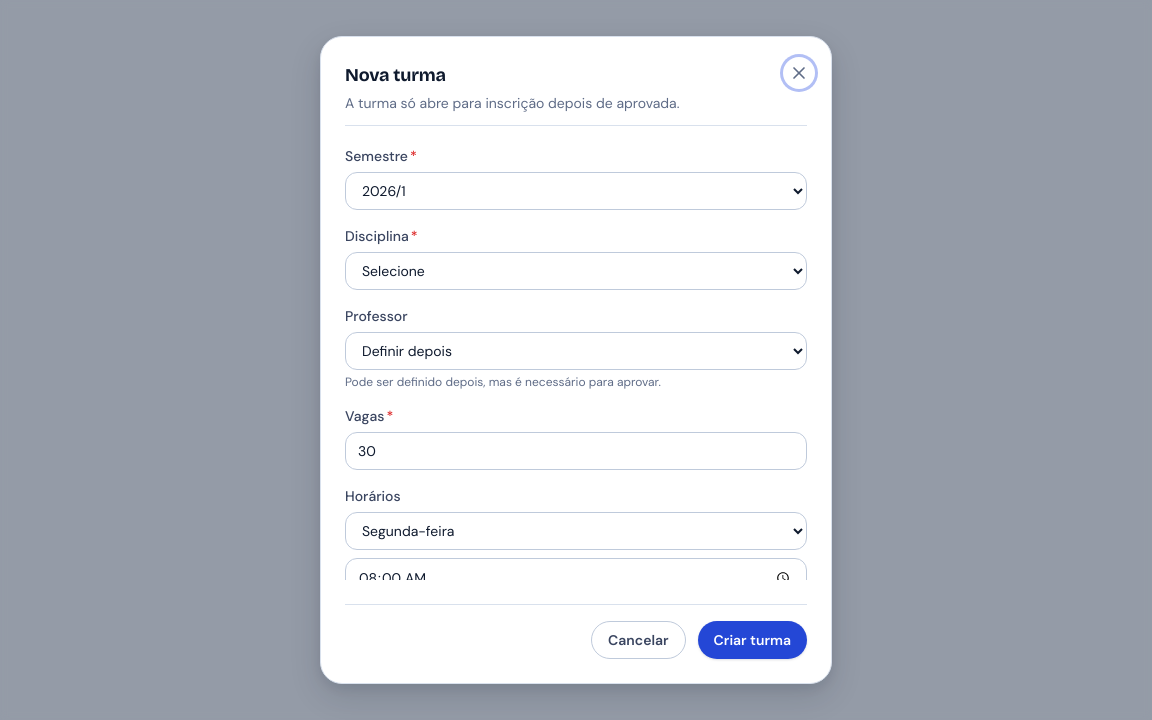
Test: ClassFormModal › requires a subject and does not send
Click the button "Criar turma": x=752, y=640 [698,621,807,659]
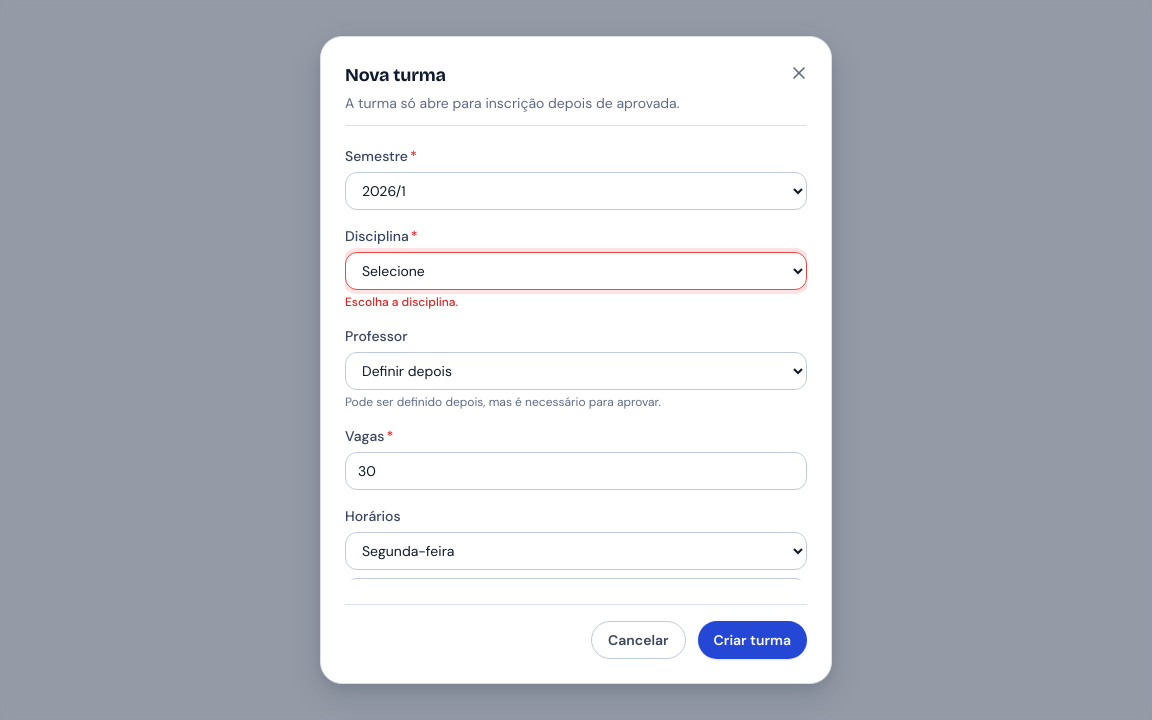
expect the text "Escolha a disciplina." is shown: met, box [345,294,458,310]
